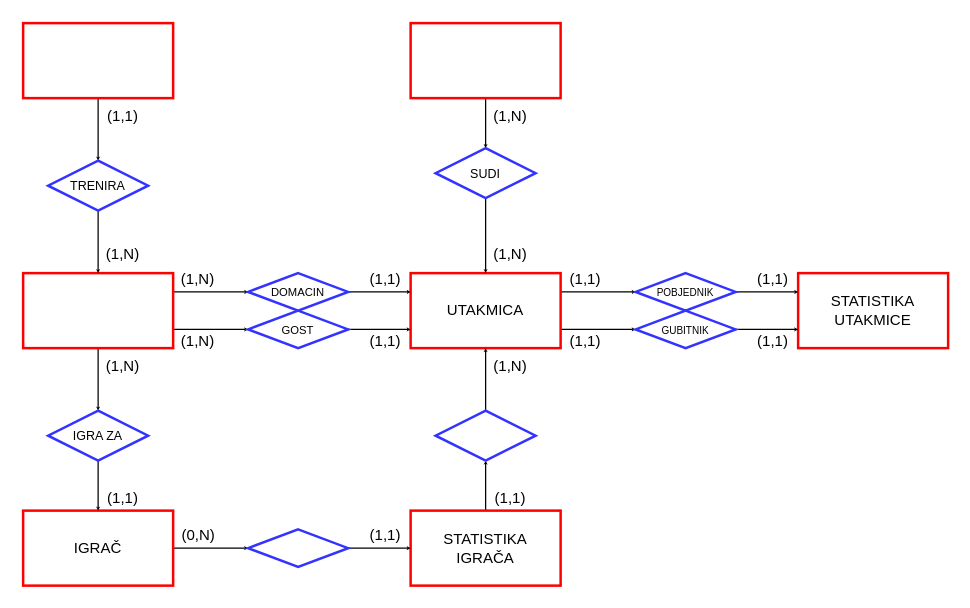
The diagram is 970 pixels wide and 608 high, and some of its shapes have lost their labels. Each missing label, with the centre of its shape:
"EKIPA" belongs at [97,310].
"ODIGRAO" belongs at [297,548].
"SASTOJI SE" belongs at [485,435].
"SUDCI" belongs at [485,60].
"TRENERI" belongs at [97,60].
